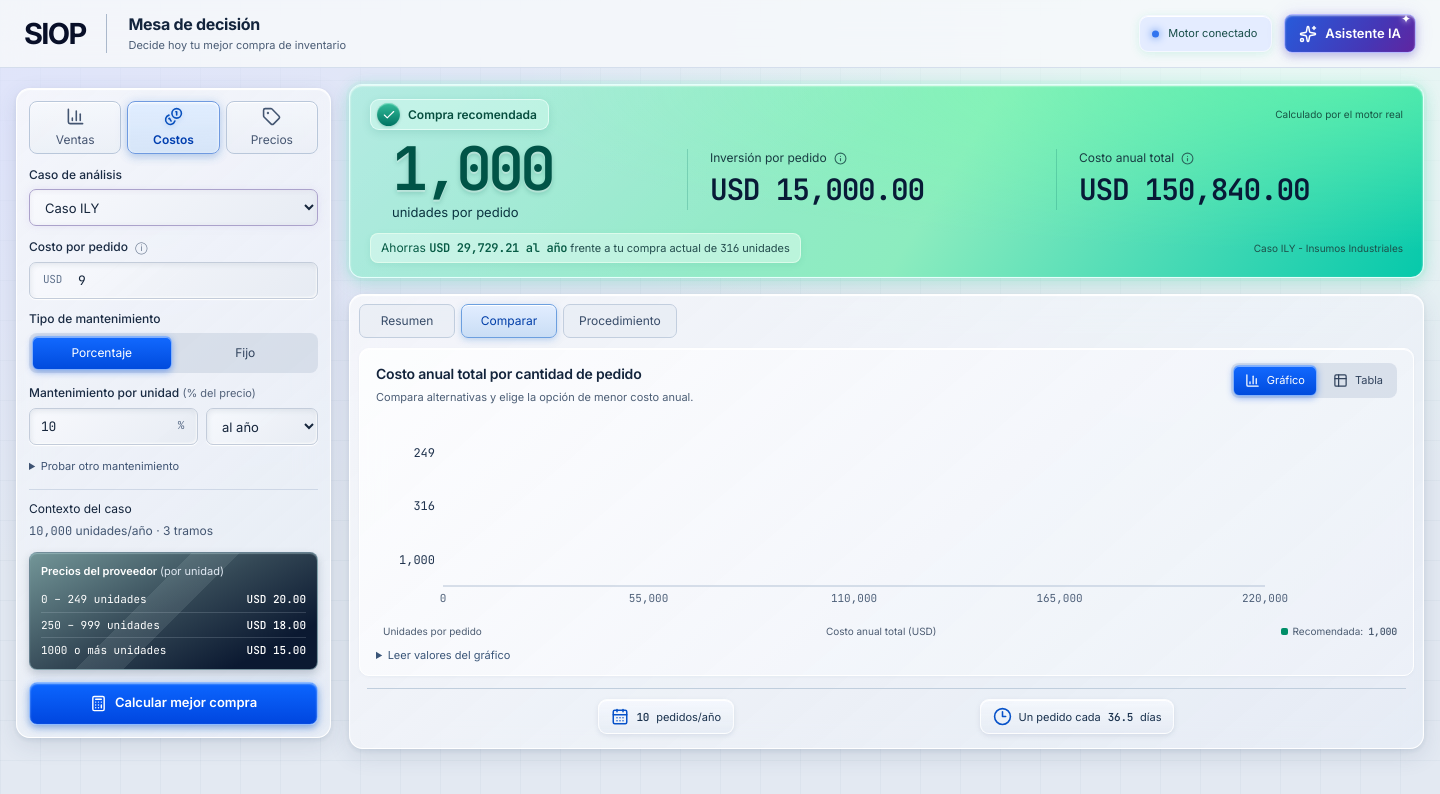
Test case: Integración de cálculo y protección contra resultados antiguos › un cambio no precalculado conserva el resultado anterior, marcado como desactualizado
Check: the heading "Compra recomendada" is shown, box [370,99,549,130]
Click the tab "Ventas" at x=75, y=128, box [29,101,121,154]
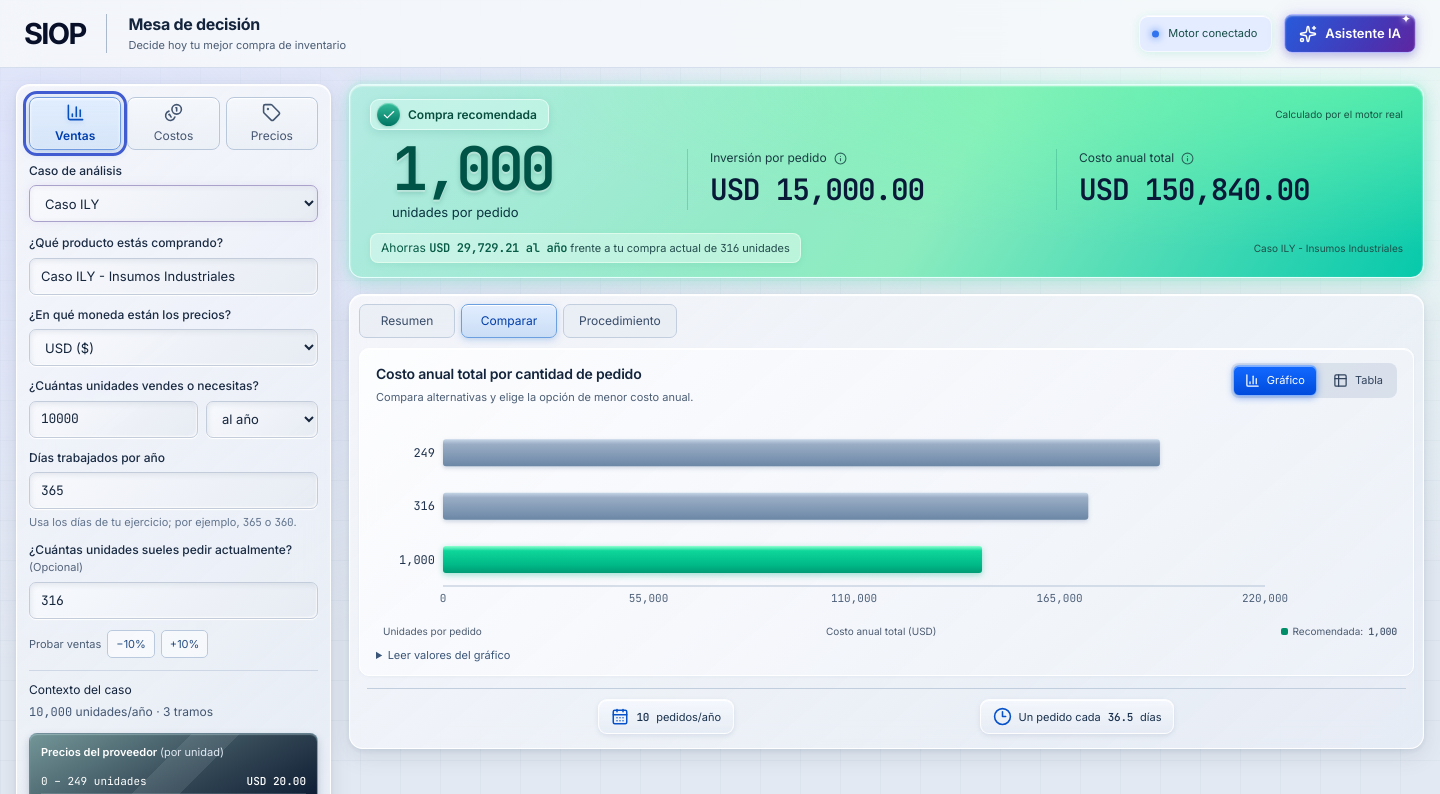
Click the button named "Aumentar demanda un 10%" at x=185, y=644, box [161,630,208,658]
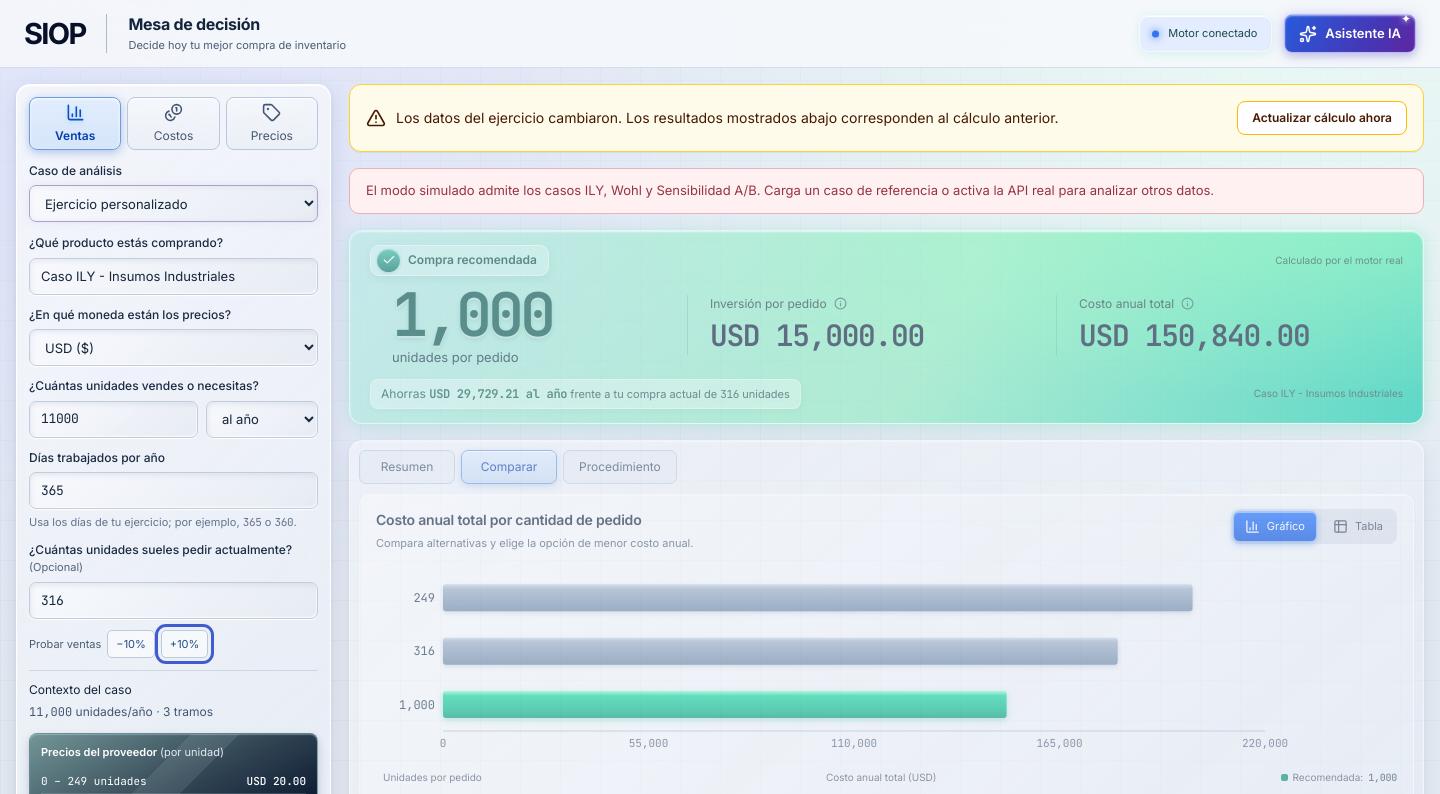
Check: the number field labelled "¿Cuántas unidades vendes o necesitas?" holds "11000", box [29,401,198,438]
